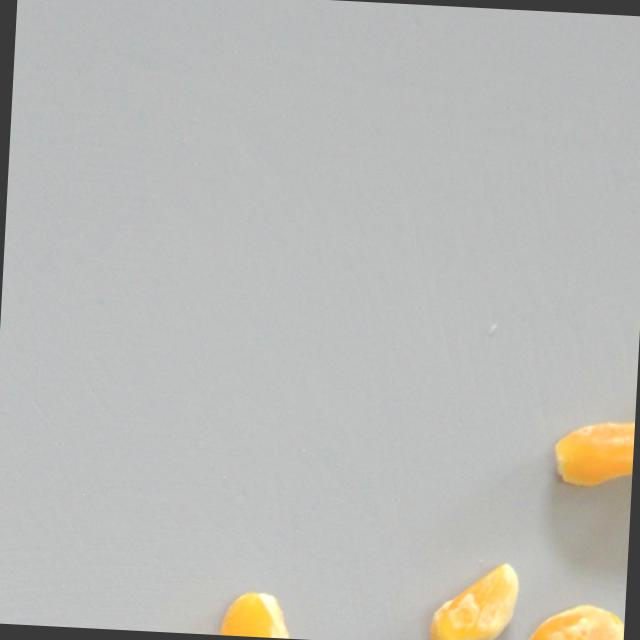estandar: (219, 589, 301, 639)
pelicula: (423, 560, 523, 640), (579, 384, 637, 518), (530, 595, 626, 640)
